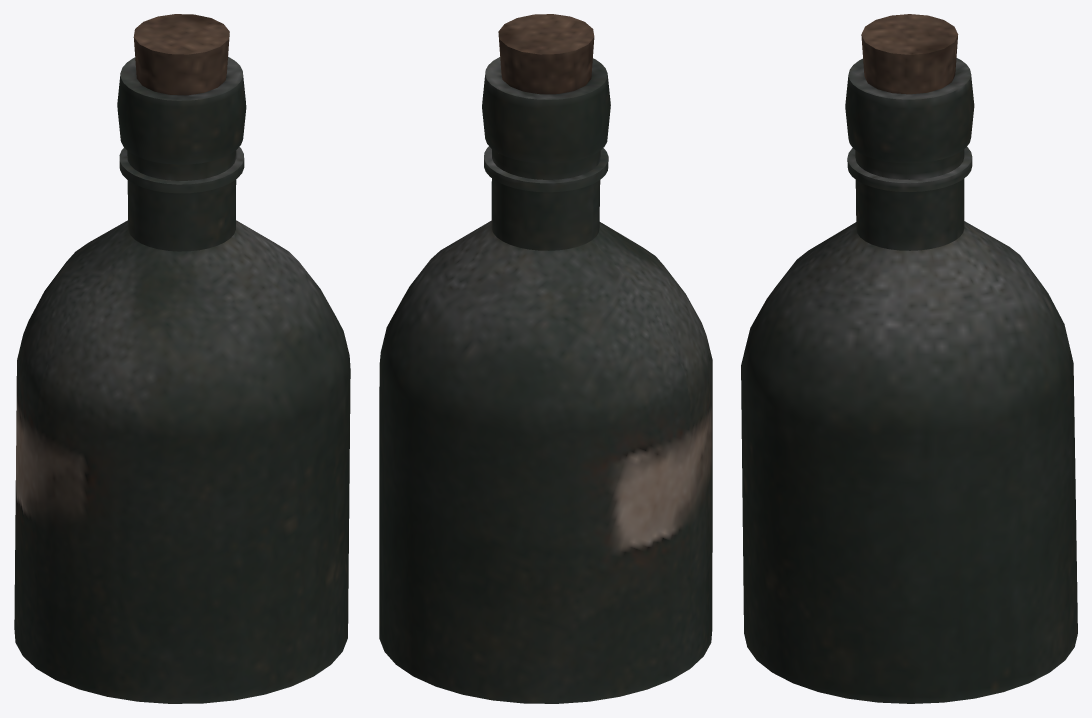
Rendered from SM_Bottles_6.fbx.
3 renders of one model, left to right at view 1: azimuth 30°, elevation 25°; view 2: azimuth 150°, elevation 25°; view 3: azimuth 270°, elevation 25°, orthographic.
Parts seen in each view (by area): view 1: SM_Bottles_6_LOD0; view 2: SM_Bottles_6_LOD0; view 3: SM_Bottles_6_LOD0.
Part boxes in pixels (<box>): SM_Bottles_6_LOD0: <box>14,14,350,703</box>; SM_Bottles_6_LOD0: <box>379,14,712,703</box>; SM_Bottles_6_LOD0: <box>741,14,1077,703</box>.
Size of the model in its own units: 6.74 by 6.77 by 13.28.
